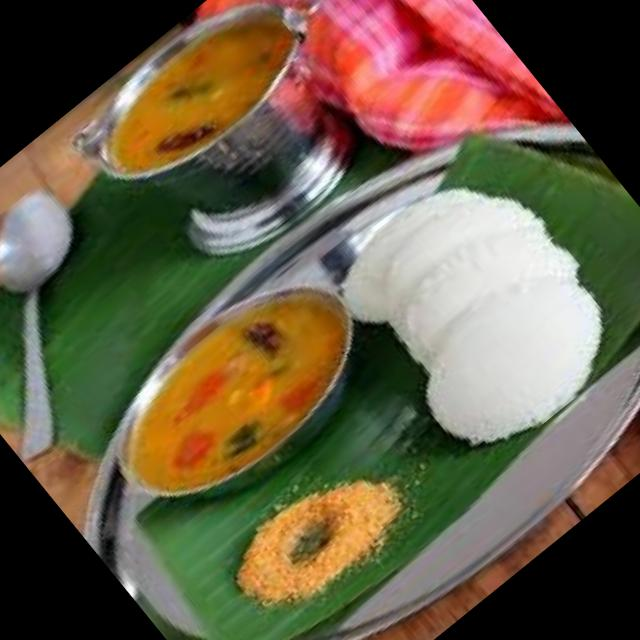idli: (400, 248, 633, 472), (378, 195, 588, 392), (355, 168, 544, 342), (322, 165, 508, 336)
